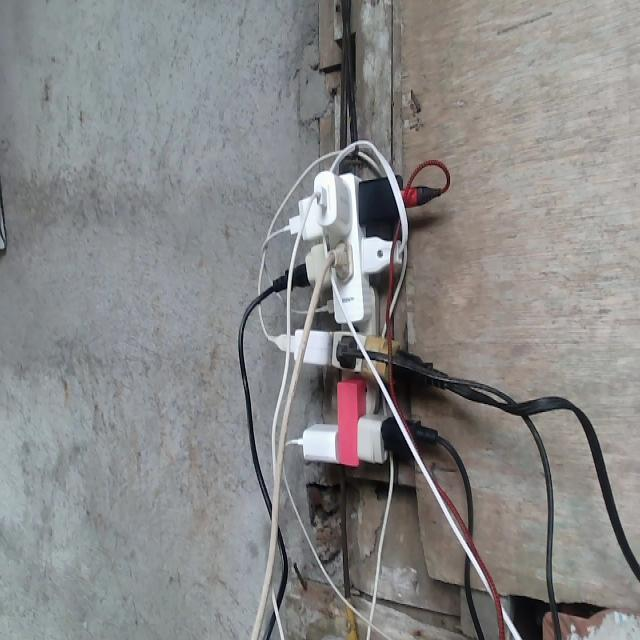-: (269, 168, 448, 467)
